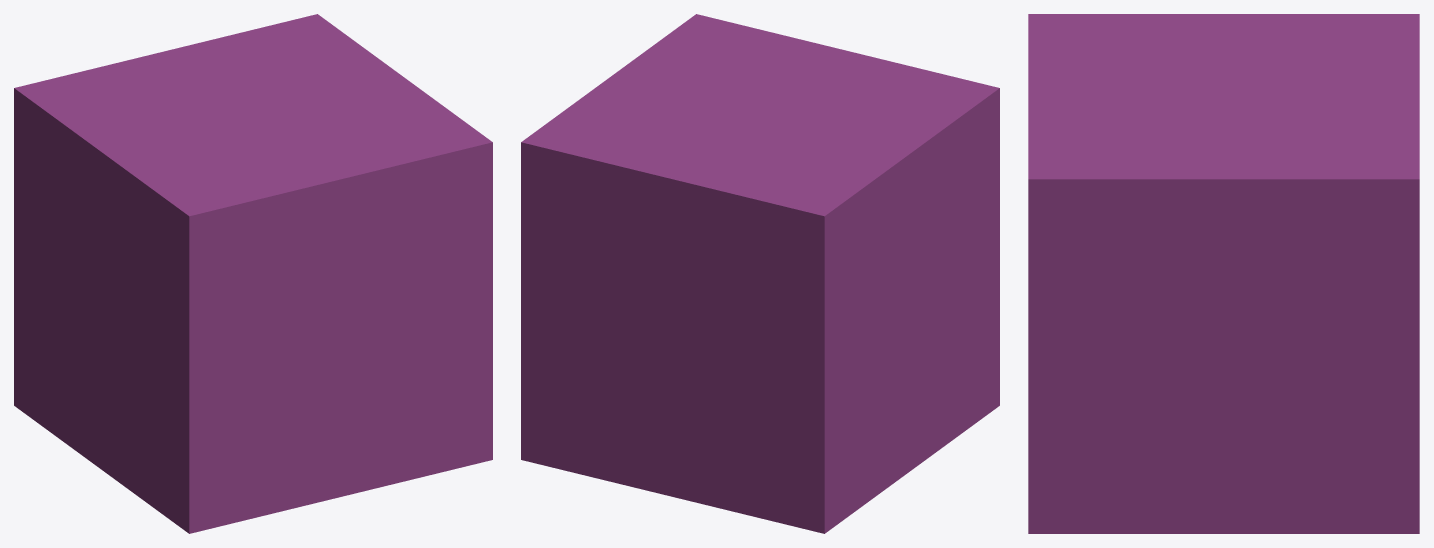
Rendered from Greed_Dice.fbx.
3 views of the same model, side by side, from view 1: azimuth 30°, elevation 25°; view 2: azimuth 150°, elevation 25°; view 3: azimuth 270°, elevation 25° (orthographic). The views are drawn at different scales.
Visible parts, largest first — view 1: Dice; view 2: Dice; view 3: Dice.
Boxes of the visible parts, x1,y1,x2,y2 form: Dice: (14, 14, 492, 533); Dice: (521, 14, 999, 533); Dice: (1028, 14, 1419, 533).
Size of the model in its own units: 0.8236 by 0.8236 by 0.8236.
